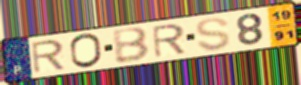8: (236, 12, 267, 46)
B: (111, 26, 152, 65)
O: (68, 32, 104, 70)
R: (29, 39, 67, 76), (150, 23, 188, 60)
S: (194, 16, 232, 52)
